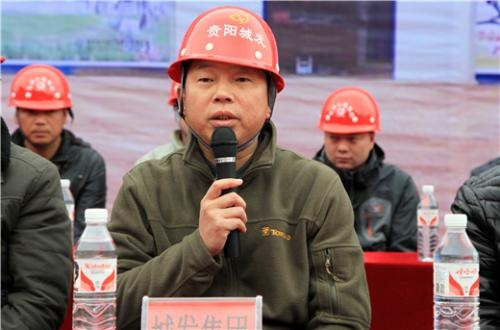red: (160, 3, 286, 150), (2, 60, 74, 146), (317, 84, 382, 167)
